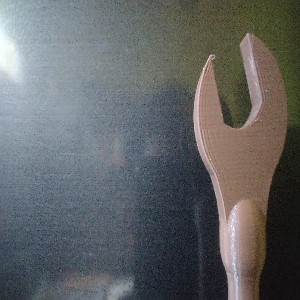spanner: (192, 32, 288, 300)
